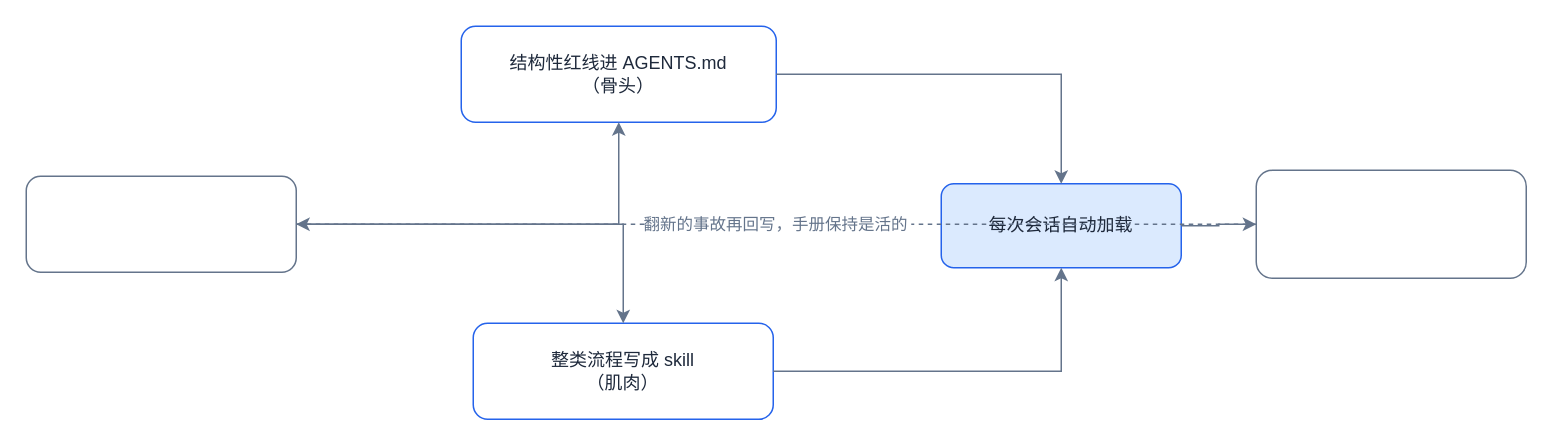
Some shapes in this 1553 by 446 pixel diagram are drawn without their labels. The box of each missing label's shape, as (x1, y1, x2, y2) in pixels:
AI 按规则执行， 允许说「无法确认」: (1255, 169, 1526, 278)
事故复盘，或者同一件事 口述到第三遍: (25, 175, 296, 272)
